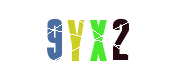2: (80, 0, 160, 80)
9: (19, 0, 99, 80)
X: (50, 0, 130, 80)
Y: (48, 0, 128, 80)
